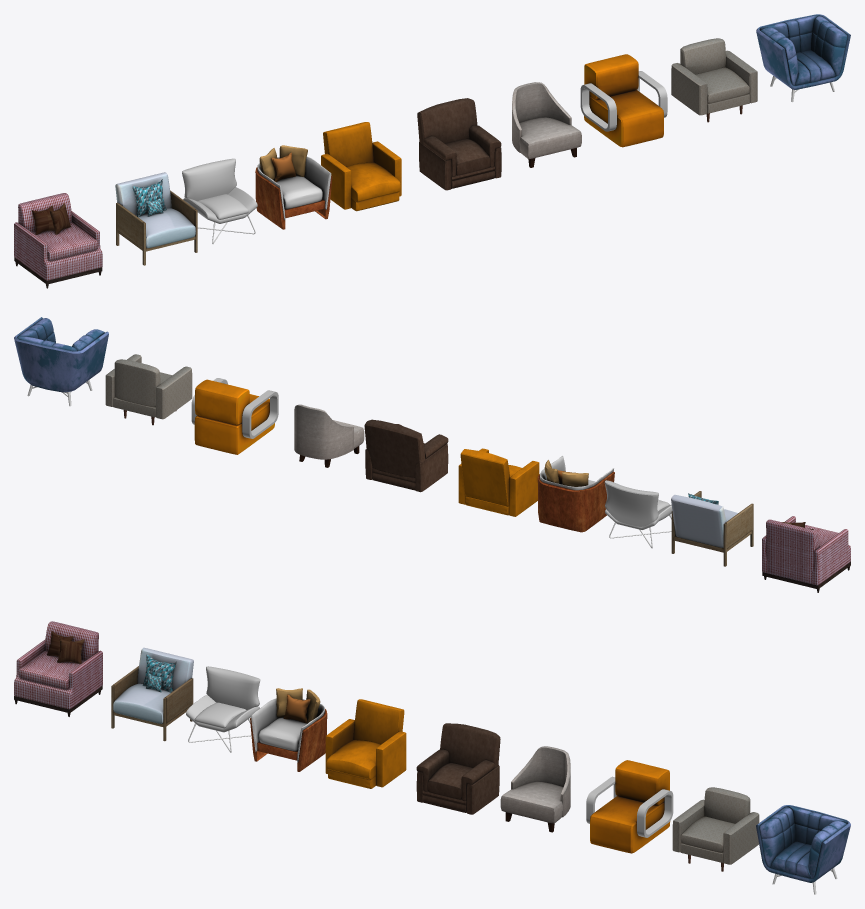
Rendered from single_sofa.fbx.
3 renders of one model, top to bottom at view 1: azimuth 30°, elevation 25°; view 2: azimuth 150°, elevation 25°; view 3: azimuth 330°, elevation 25°, orthographic.
Visible parts, largest first — view 1: Triptis Accent Chair, Drakelle_Accent_Chair, Austin_Accent_hair, Copeland_Accent_chair, Alvia Velvet Accent Chair, Jayden Chair, Nicorvo Accent Chair, Alzena Accent Chair, Corinna_Accent_Chair, Jesolo Accent Chair; view 2: Drakelle_Accent_Chair, Triptis Accent Chair, Copeland_Accent_chair, Austin_Accent_hair, Alvia Velvet Accent Chair, Jayden Chair, Alzena Accent Chair, Nicorvo Accent Chair, Corinna_Accent_Chair, Jesolo Accent Chair; view 3: Triptis Accent Chair, Austin_Accent_hair, Drakelle_Accent_Chair, Alvia Velvet Accent Chair, Copeland_Accent_chair, Jayden Chair, Nicorvo Accent Chair, Alzena Accent Chair, Corinna_Accent_Chair, Jesolo Accent Chair.
Part boxes in pixels (<box>): Triptis Accent Chair: <box>14,193,102,288</box>; Drakelle_Accent_Chair: <box>580,54,667,147</box>; Austin_Accent_hair: <box>417,98,501,190</box>; Copeland_Accent_chair: <box>756,14,850,102</box>; Alvia Velvet Accent Chair: <box>321,122,401,211</box>; Jayden Chair: <box>671,38,757,122</box>; Nicorvo Accent Chair: <box>115,172,197,265</box>; Alzena Accent Chair: <box>255,145,332,229</box>; Corinna_Accent_Chair: <box>512,82,581,167</box>; Jesolo Accent Chair: <box>182,158,257,243</box>; Drakelle_Accent_Chair: <box>191,378,278,454</box>; Triptis Accent Chair: <box>762,516,850,592</box>; Copeland_Accent_chair: <box>14,317,108,406</box>; Austin_Accent_hair: <box>364,419,448,492</box>; Alvia Velvet Accent Chair: <box>458,448,539,516</box>; Jayden Chair: <box>105,354,192,425</box>; Alzena Accent Chair: <box>537,456,614,532</box>; Nicorvo Accent Chair: <box>671,491,753,566</box>; Corinna_Accent_Chair: <box>294,404,364,467</box>; Jesolo Accent Chair: <box>604,480,672,548</box>; Triptis Accent Chair: <box>14,621,102,716</box>; Austin_Accent_hair: <box>416,723,500,814</box>; Drakelle_Accent_Chair: <box>586,760,673,853</box>; Alvia Velvet Accent Chair: <box>325,699,406,788</box>; Copeland_Accent_chair: <box>756,805,850,894</box>; Jayden Chair: <box>672,787,759,871</box>; Nicorvo Accent Chair: <box>111,647,193,741</box>; Alzena Accent Chair: <box>250,688,327,771</box>; Corinna_Accent_Chair: <box>500,746,570,832</box>; Jesolo Accent Chair: <box>186,666,260,752</box>.
Bounding box in the file's own units: 14.71 × 1.07 × 1.22.
